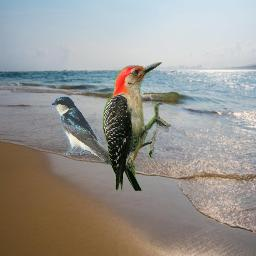Swallow: (51, 96, 122, 165)
Woodpecker: (103, 62, 171, 191)
